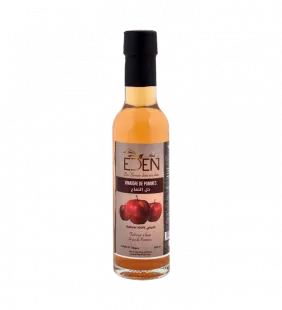EDEN FOODS: (100, 20, 180, 291)
